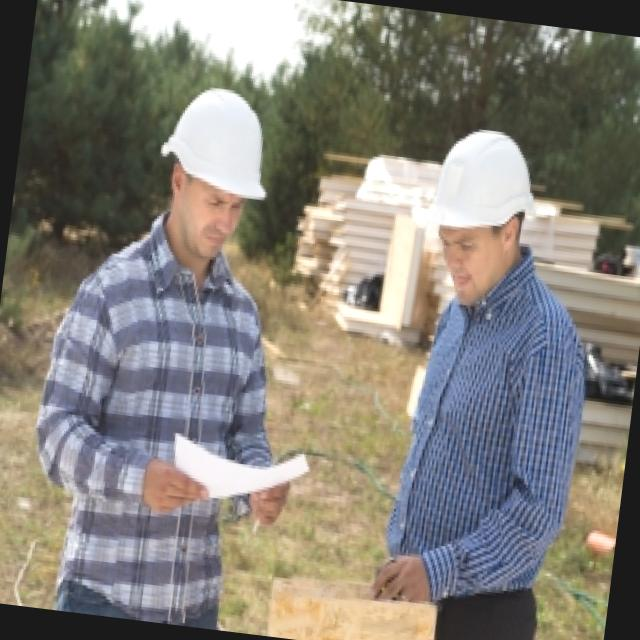helmet: (150, 76, 282, 208), (422, 120, 548, 244)
no-goggles: (380, 246, 598, 596), (426, 224, 491, 268), (196, 186, 248, 222)
